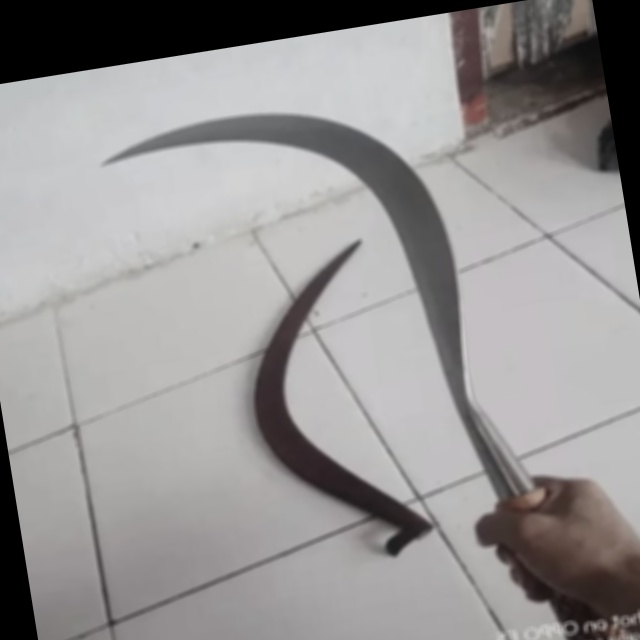Sharp-Object: (91, 36, 604, 640), (218, 219, 435, 591)
